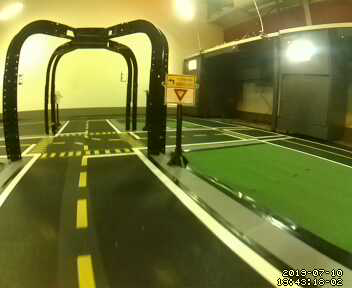Turn Yield: (165, 72, 197, 106)
